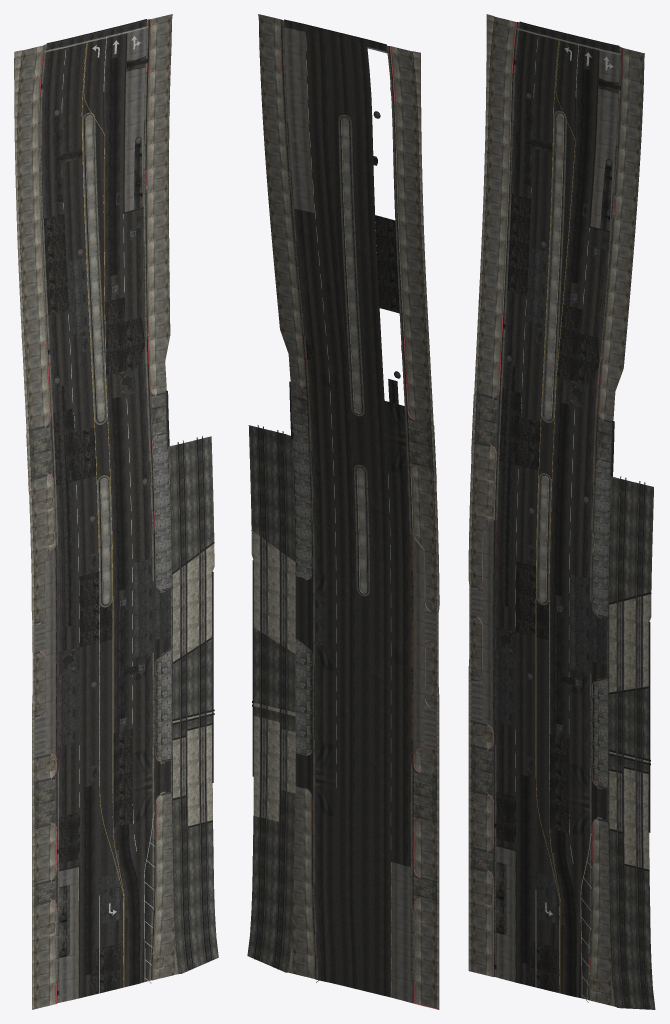
3 views of the same model, side by side, from view 1: azimuth 30°, elevation 25°; view 2: azimuth 150°, elevation 25°; view 3: azimuth 330°, elevation 25° (orthographic). The views are drawn at different scales.
Visible parts, largest first — view 1: sc1_rd_r1_05; view 2: sc1_rd_r1_05; view 3: sc1_rd_r1_05.
Part boxes in pixels (left/top/right/bottom): sc1_rd_r1_05: left=14, top=14, right=218, bottom=1009; sc1_rd_r1_05: left=247, top=14, right=439, bottom=1009; sc1_rd_r1_05: left=468, top=14, right=655, bottom=1009.
Size of the model in its own units: 4999 by 24188 by 864.
